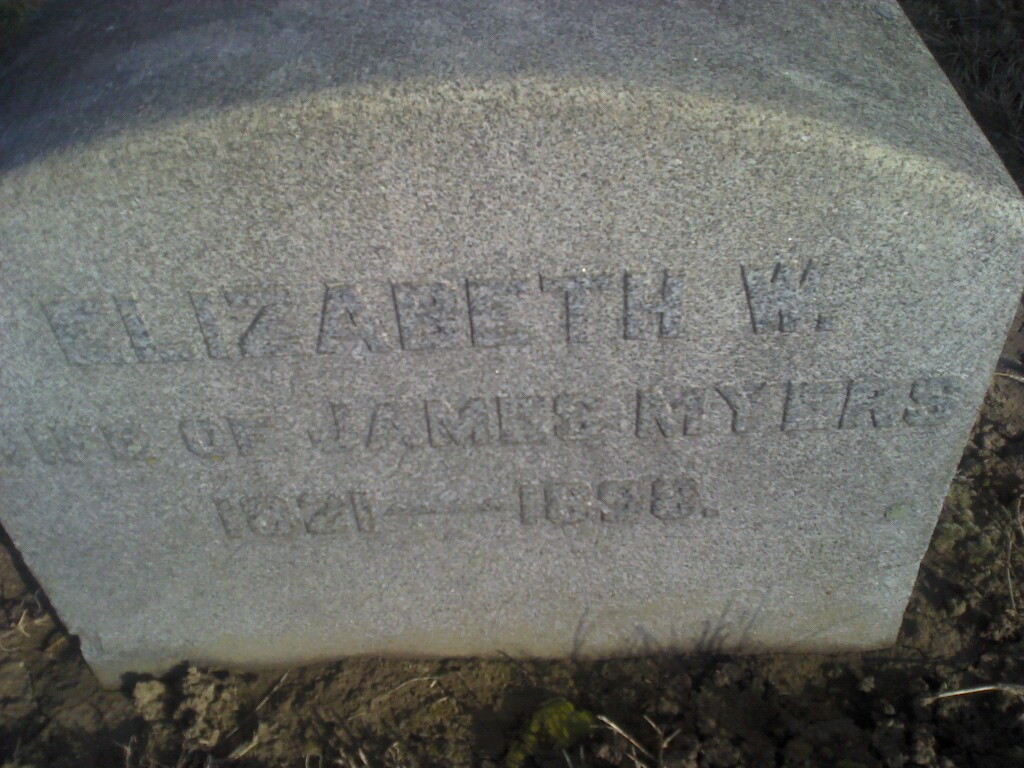upright: (0, 4, 1024, 671)
